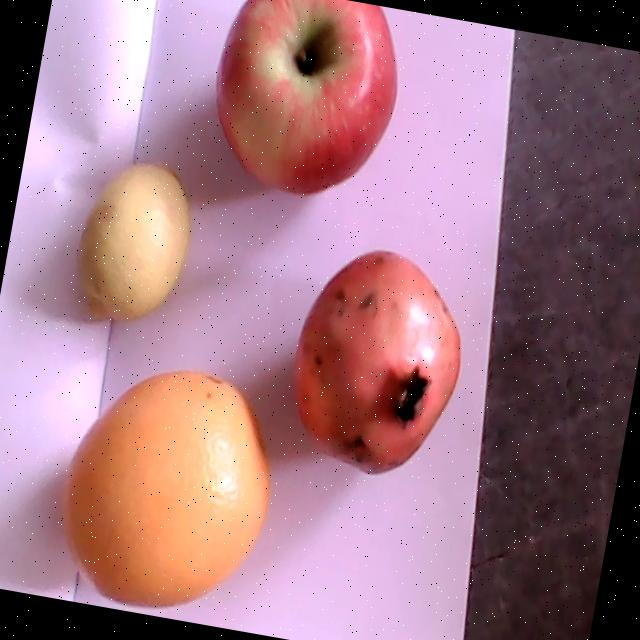apple: (214, 0, 398, 195)
lemon: (75, 159, 193, 321)
orange: (60, 368, 271, 606)
pomegranate: (294, 251, 461, 473)
